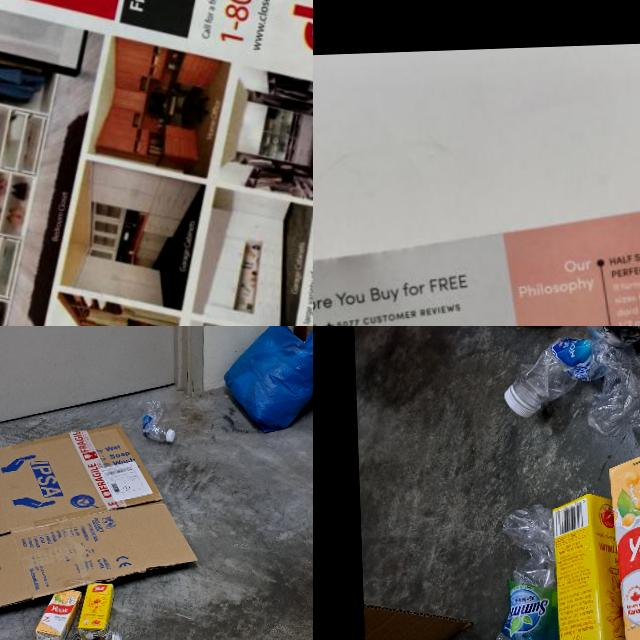caixinha: (551, 490, 640, 640), (606, 443, 640, 640), (35, 587, 82, 640), (75, 582, 114, 632)
garrafa plástica: (511, 332, 640, 439), (487, 503, 558, 640), (140, 398, 176, 442)
lata: (68, 629, 124, 640)
papel: (0, 0, 313, 326), (313, 187, 640, 326)
papelão: (0, 422, 197, 613), (363, 593, 474, 640)
sacola plástica: (224, 326, 313, 430)
tampa plástica: (504, 387, 536, 418), (165, 428, 176, 442)
